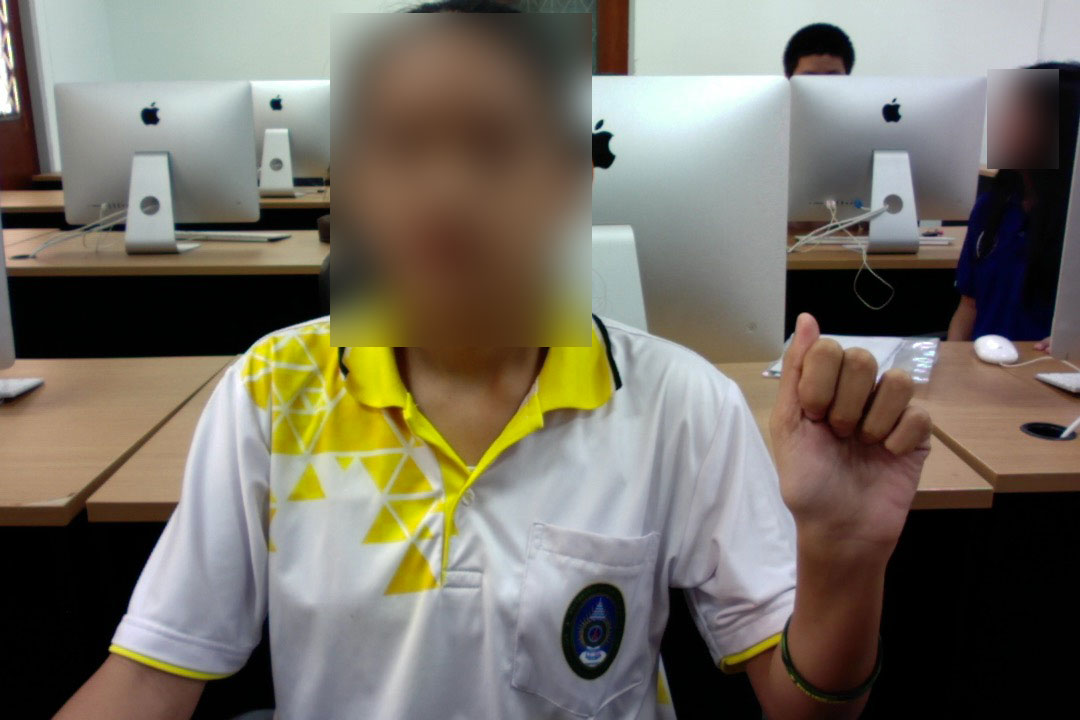or: (758, 304, 945, 579)
